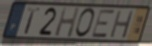2: (37, 7, 57, 37)
E: (90, 9, 116, 39)
H: (53, 6, 81, 39), (108, 9, 136, 40)
O: (74, 7, 96, 39)
T: (23, 7, 41, 35)
